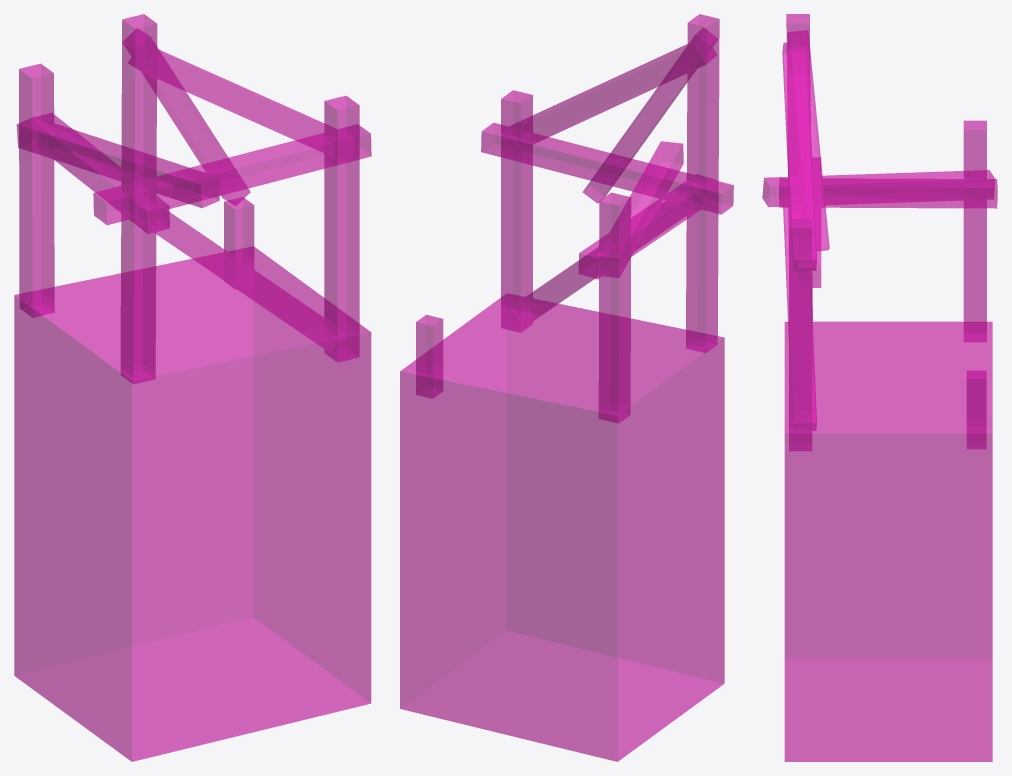
File: SM_Prop_Scaffolding_06_Damaged_01_Collision.fbx
The picture shows the model from 3 angles, left to right: view 1: azimuth 30°, elevation 25°; view 2: azimuth 150°, elevation 25°; view 3: azimuth 270°, elevation 25°; orthographic projection. The views are drawn at different scales.
Visible parts, largest first — view 1: SM_Prop_Scaffolding_06_Damaged_01_Collision; view 2: SM_Prop_Scaffolding_06_Damaged_01_Collision; view 3: SM_Prop_Scaffolding_06_Damaged_01_Collision.
Boxes of the visible parts, box(x1,y1,x2,y2) form: SM_Prop_Scaffolding_06_Damaged_01_Collision: box(14, 14, 371, 761); SM_Prop_Scaffolding_06_Damaged_01_Collision: box(400, 14, 733, 761); SM_Prop_Scaffolding_06_Damaged_01_Collision: box(762, 14, 997, 761).
Size of the model in its own units: 352 by 928 by 306.
